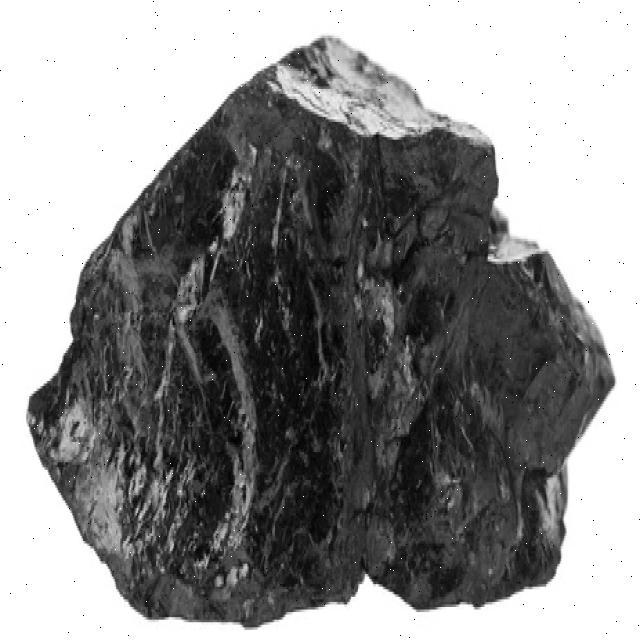Sedimentary: (29, 33, 618, 627)
